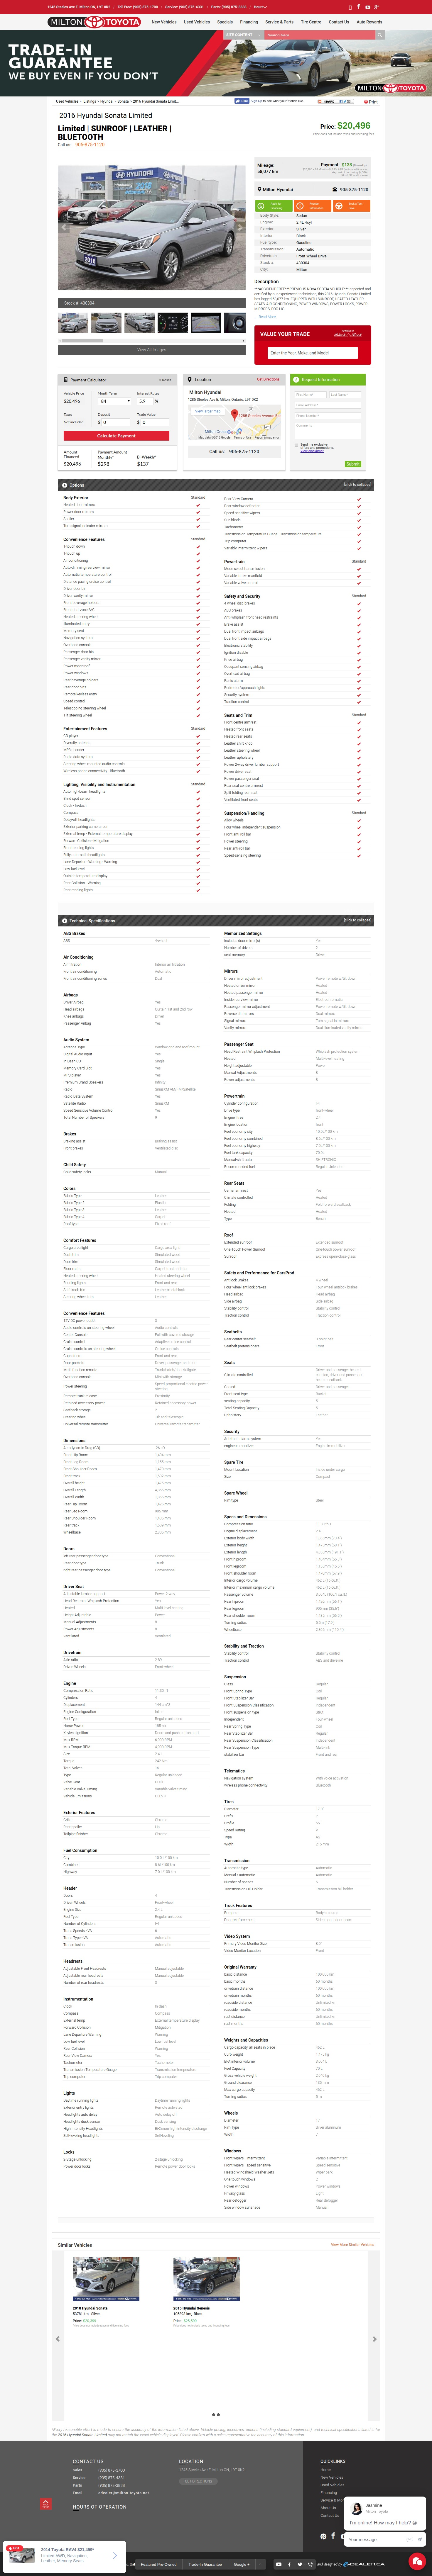car: (237, 225, 243, 232)
